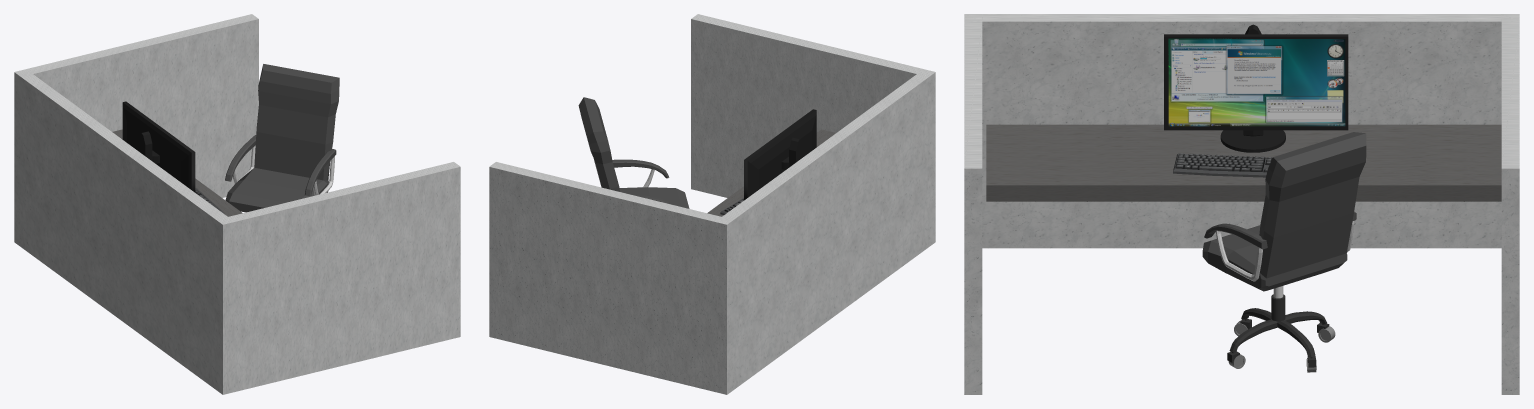
The model's file is house.fbx.
The picture shows the model from 3 angles, left to right: view 1: azimuth 30°, elevation 25°; view 2: azimuth 150°, elevation 25°; view 3: azimuth 270°, elevation 25°; orthographic projection. The views are drawn at different scales.
Visible parts, largest first — view 1: Cube.002, Cube.009, Cube.005, Cube.029, Cube.001, Cube.024; view 2: Cube.002, Cube.005, Cube.009, Cube.001, Cube.029; view 3: Cube.002, Cube.001, Plane, Cube.009, Cube.005, Cube.012, Cube.004, Cube.024, Cube.029, Cube.008.
Part boxes in pixels (x1=…): Cube.002: x1=14, y1=14, x2=460, y2=394; Cube.009: x1=225, y1=64, x2=339, y2=212; Cube.005: x1=122, y1=101, x2=195, y2=192; Cube.029: x1=225, y1=135, x2=336, y2=195; Cube.001: x1=112, y1=129, x2=242, y2=216; Cube.024: x1=232, y1=145, x2=334, y2=195; Cube.002: x1=489, y1=14, x2=935, y2=394; Cube.005: x1=744, y1=109, x2=816, y2=200; Cube.009: x1=578, y1=97, x2=689, y2=208; Cube.001: x1=707, y1=129, x2=835, y2=216; Cube.029: x1=612, y1=159, x2=672, y2=204; Cube.002: x1=964, y1=14, x2=1519, y2=394; Cube.001: x1=986, y1=124, x2=1501, y2=201; Plane: x1=1168, y1=38, x2=1345, y2=126; Cube.009: x1=1202, y1=132, x2=1366, y2=291; Cube.005: x1=1164, y1=24, x2=1348, y2=152; Cube.012: x1=1229, y1=271, x2=1328, y2=358; Cube.004: x1=1173, y1=153, x2=1272, y2=177; Cube.024: x1=1216, y1=221, x2=1354, y2=298; Cube.029: x1=1204, y1=211, x2=1356, y2=249; Cube.008: x1=1228, y1=320, x2=1335, y2=372.
Size of the model in its own units: 120 by 84.83 by 182.
